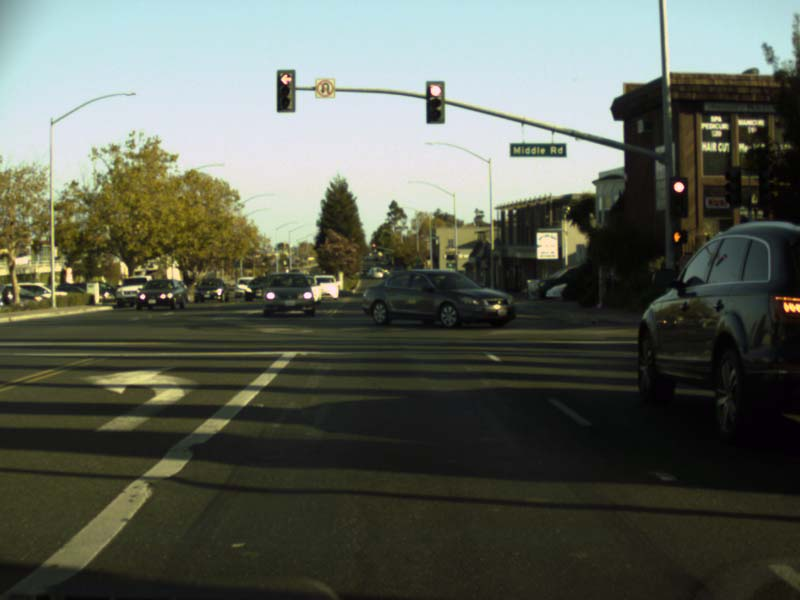Red: (668, 177, 688, 218), (426, 80, 445, 122), (276, 70, 295, 111), (371, 242, 376, 248)
